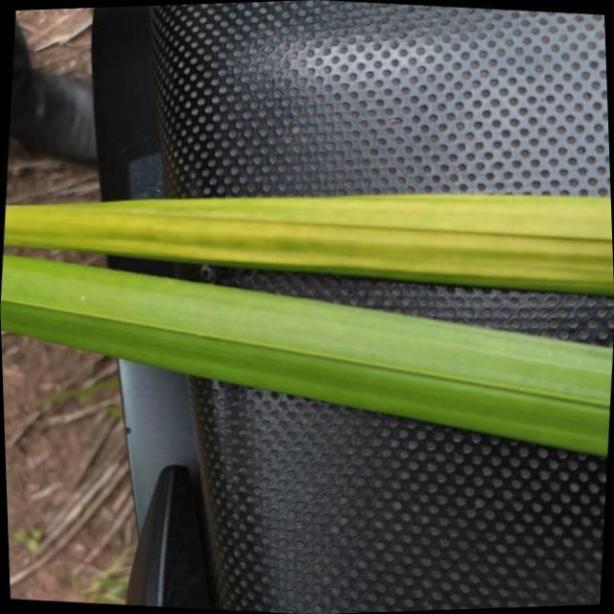nitrogen: (1, 252, 614, 455), (0, 182, 614, 296)
